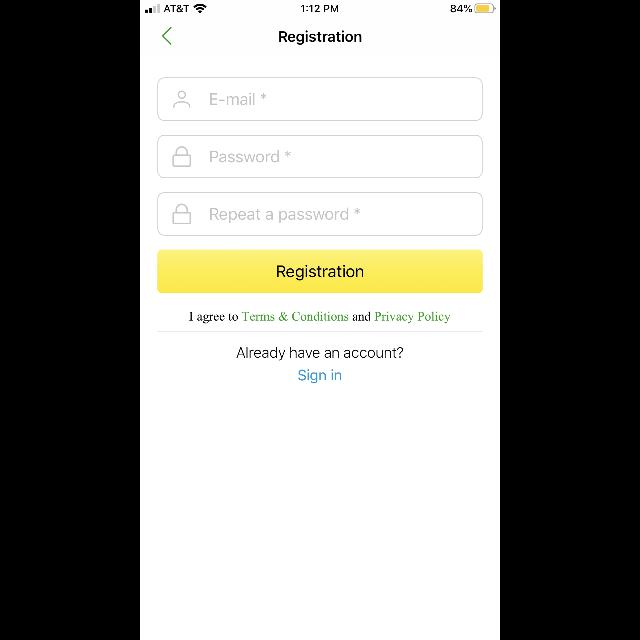icon: (173, 203, 191, 224), (173, 147, 191, 167), (173, 90, 190, 108), (162, 28, 172, 44)
input: (158, 192, 482, 235), (158, 78, 482, 120), (158, 136, 482, 178)
text: (190, 312, 450, 324), (237, 347, 403, 361), (210, 208, 360, 222), (279, 31, 361, 45), (211, 151, 291, 163), (211, 93, 267, 105), (298, 369, 342, 383)
textbutton: (158, 250, 482, 292)
uppertaskbar: (140, 0, 500, 14)
